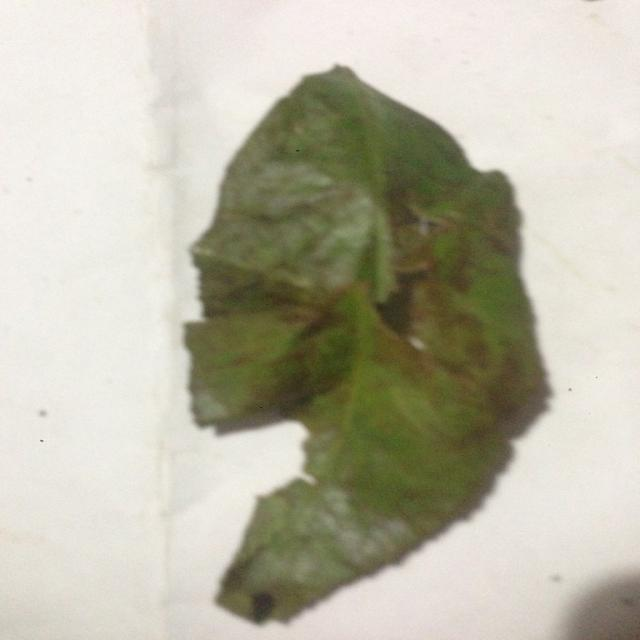Red Leaf Spot: (140, 57, 556, 627)
